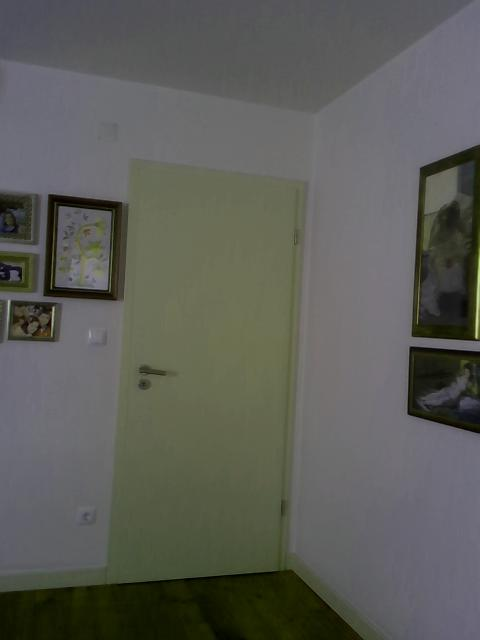closed_door: (104, 157, 308, 587)
